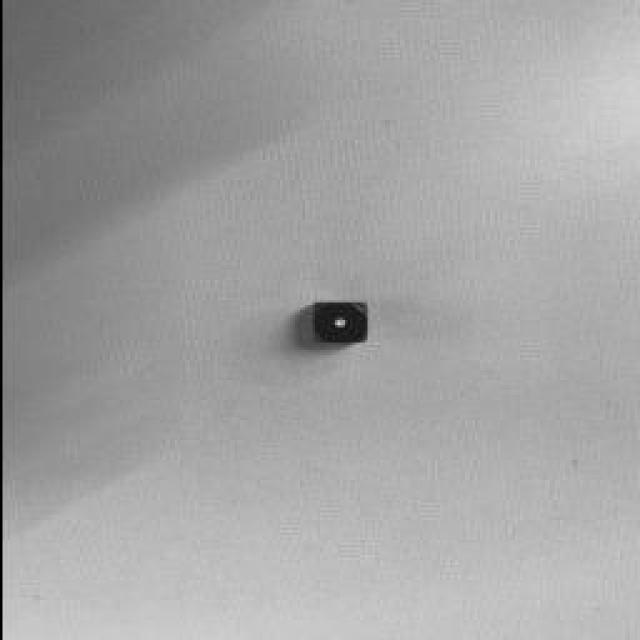dice_1: (312, 304, 366, 344)
